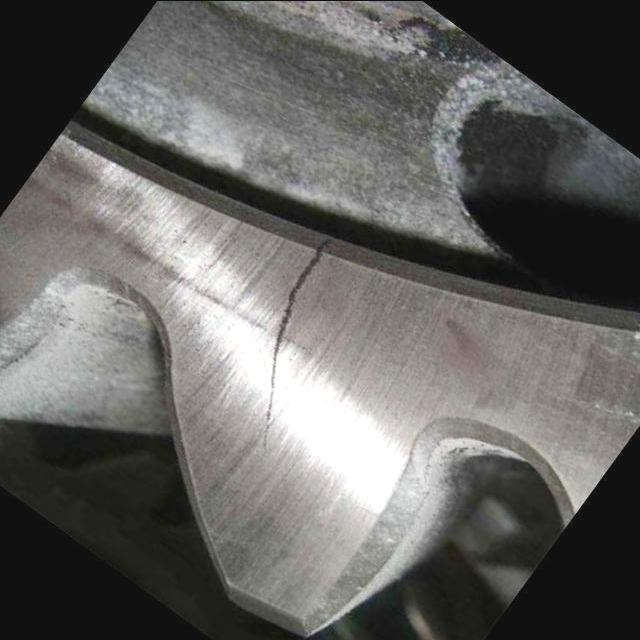defect: (257, 231, 341, 455)
